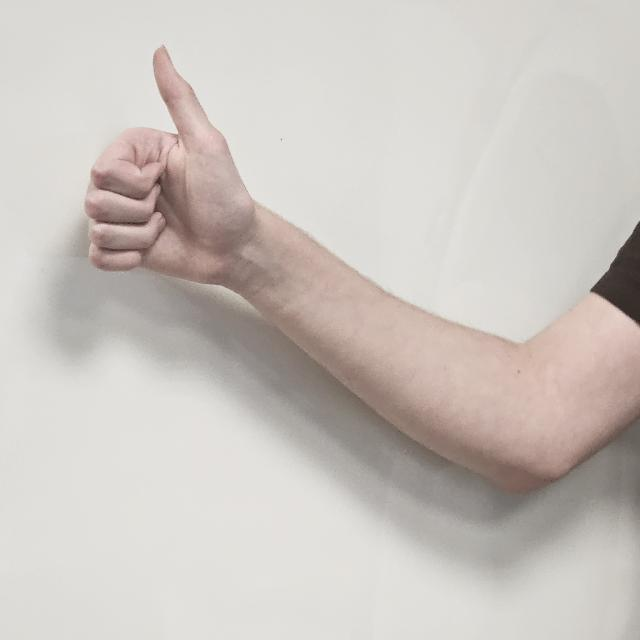Start: (85, 46, 268, 338)
